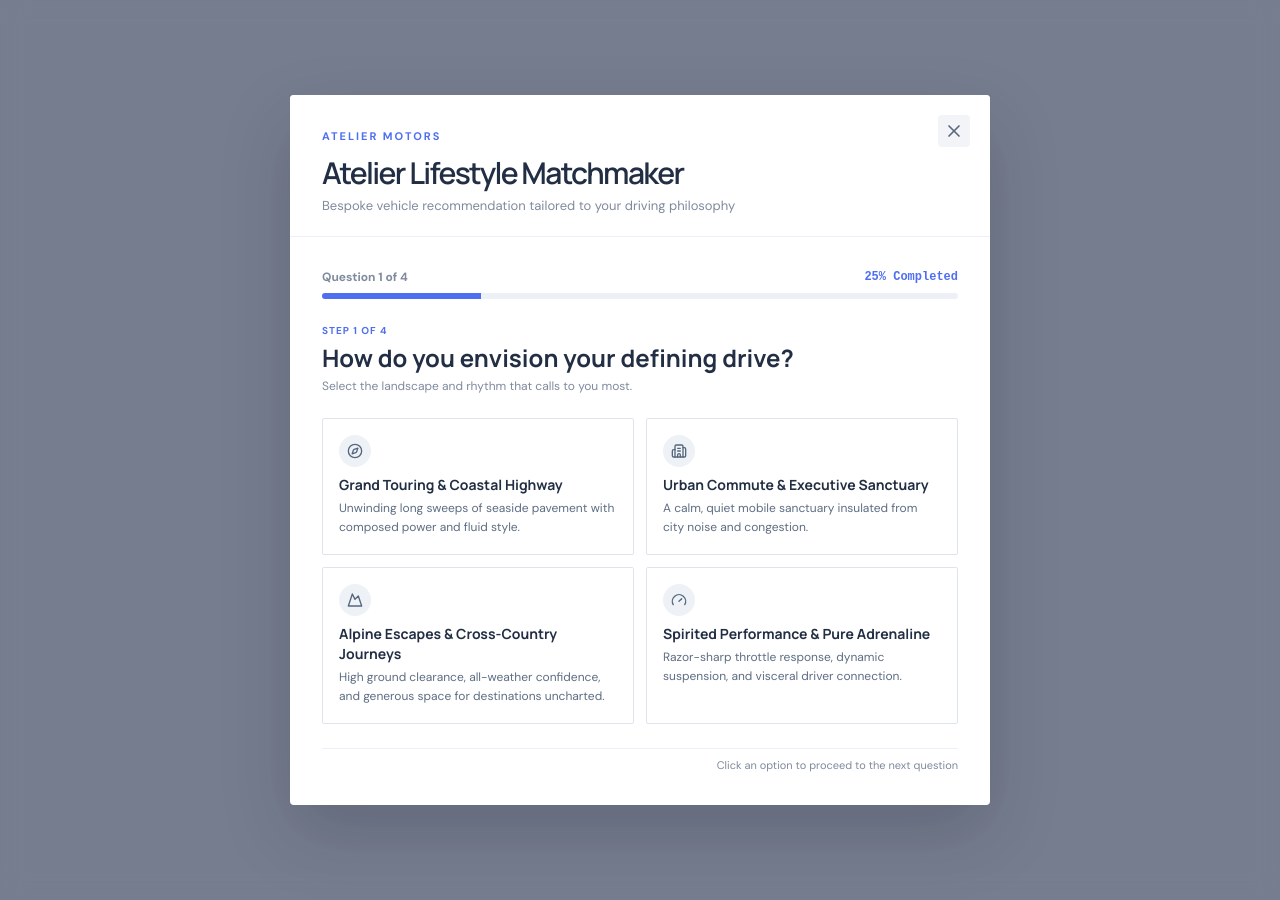
Test: MatchmakerQuizModal › navigates forward through steps when options are chosen
Click the heading "Grand Touring & Coastal Highway" at {"x": 451, "y": 484}, box top-left (339, 475), bottom-right (563, 494)
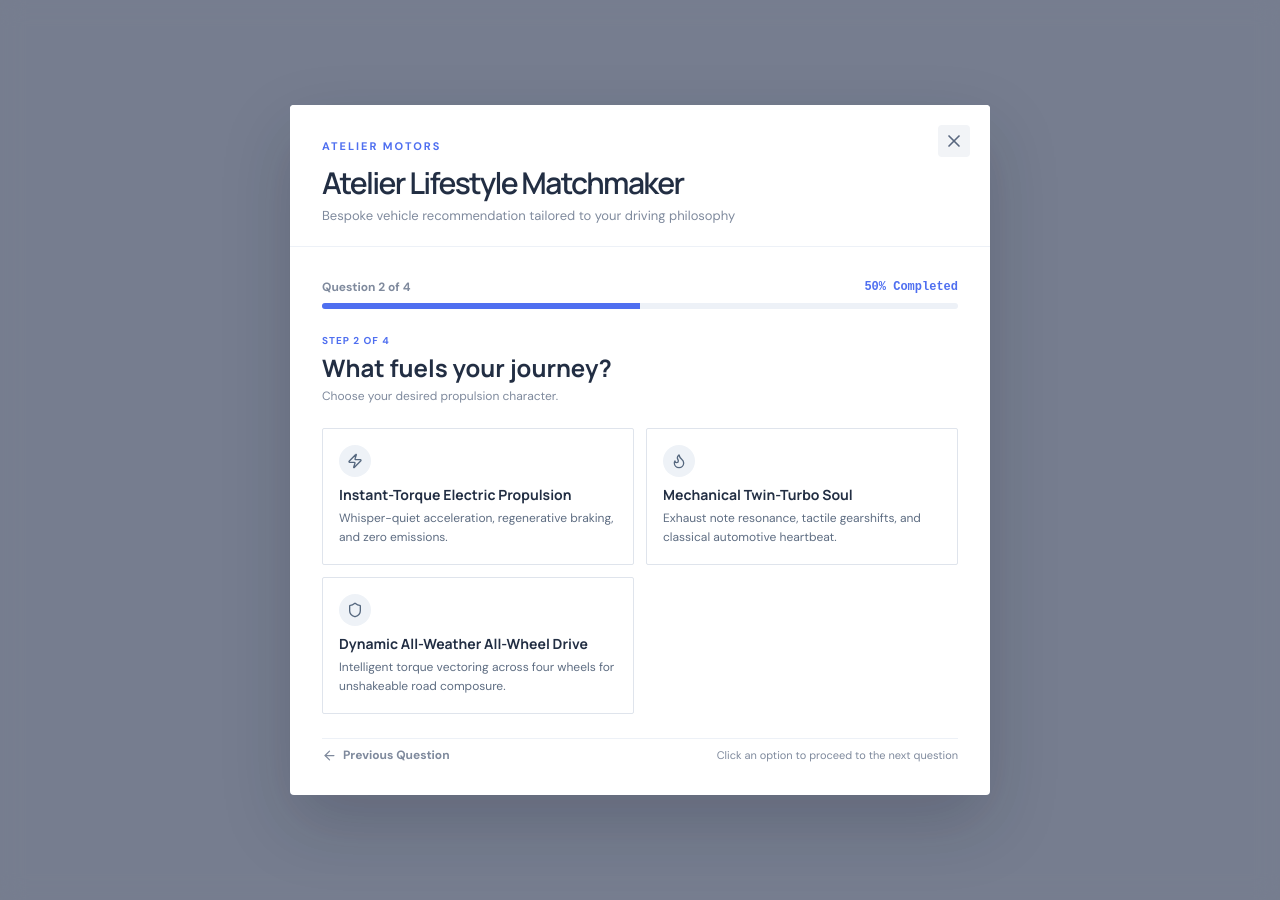
Expected: the text "STEP 2 OF 4" is shown, top-left (322, 334), bottom-right (390, 347)
Expected: the heading "What fuels your journey?" is shown, top-left (322, 351), bottom-right (612, 384)
Expected: the heading "Instant-Torque Electric Propulsion" is shown, top-left (339, 485), bottom-right (572, 504)
//  Go back
Click the button "Previous Question" at {"x": 386, "y": 755}, box top-left (322, 747), bottom-right (450, 763)
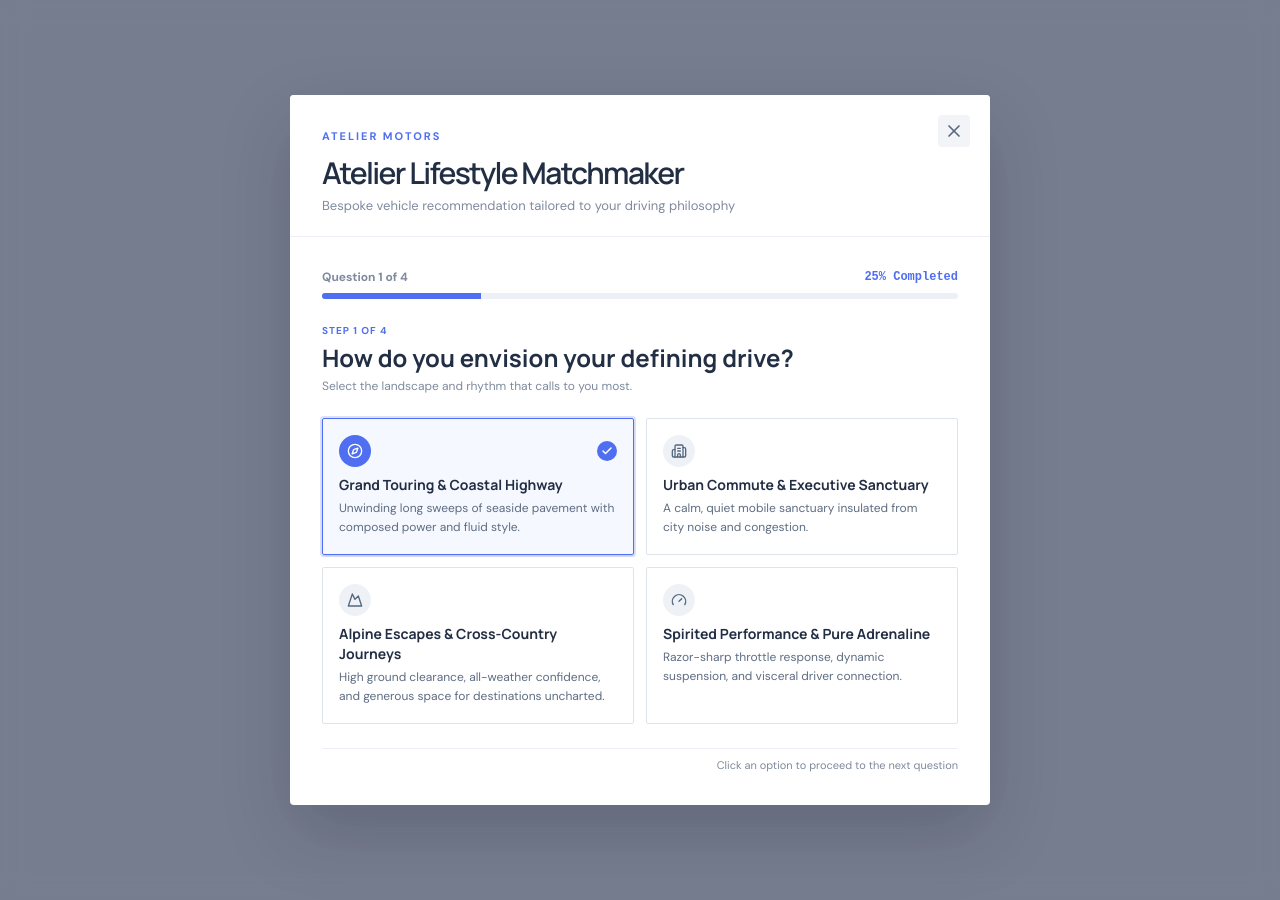
Expected: the text "STEP 1 OF 4" is shown, top-left (322, 324), bottom-right (388, 337)
